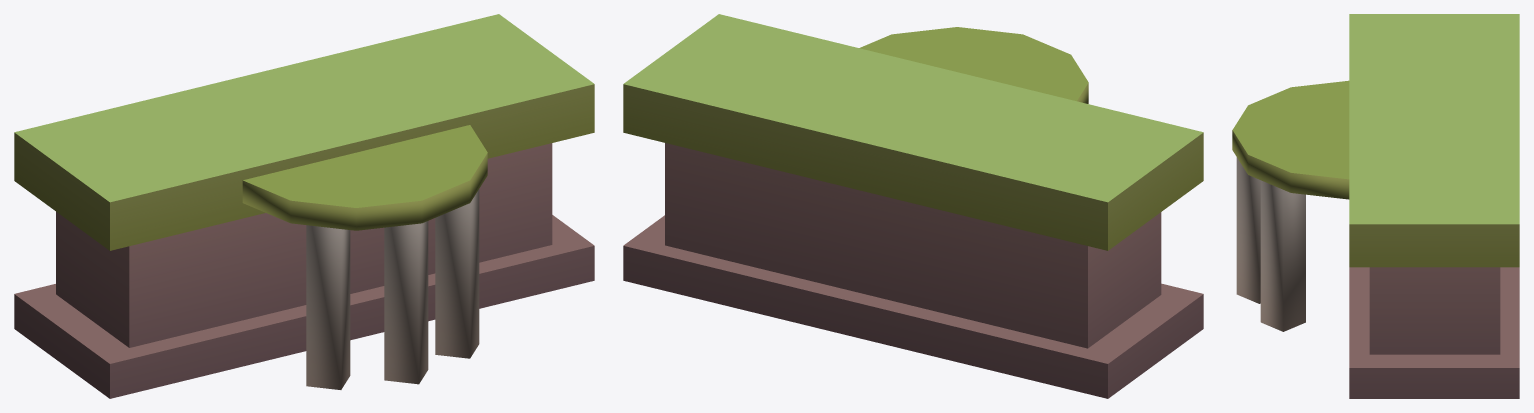
File: bank.glb
3 renders of one model, left to right at view 1: azimuth 30°, elevation 25°; view 2: azimuth 150°, elevation 25°; view 3: azimuth 270°, elevation 25°, orthographic. The views are drawn at different scales.
Visible parts, largest first — view 1: Bank; view 2: Bank; view 3: Bank.
Part boxes in pixels (x1,y1,x2,y2): Bank: [14, 14, 594, 398]; Bank: [623, 14, 1203, 398]; Bank: [1232, 14, 1519, 398].
Size of the model in its own units: 1.69 by 0.6562 by 0.9771.
1 material, 1 textured.
